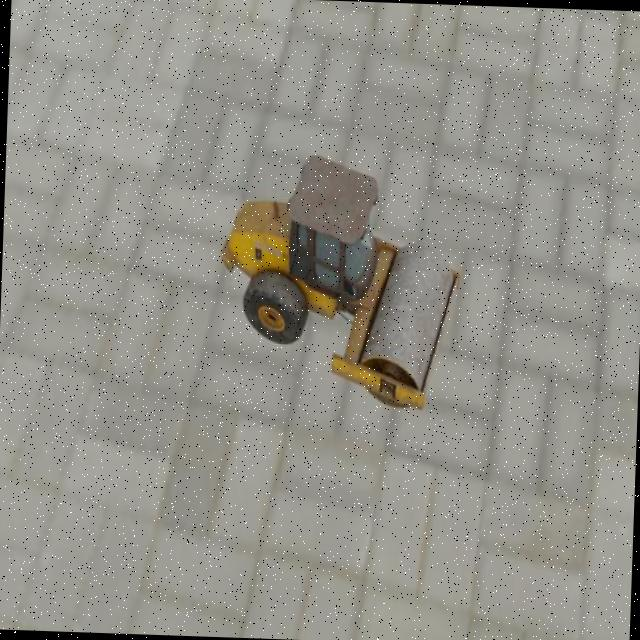Roller: (215, 150, 464, 410)
